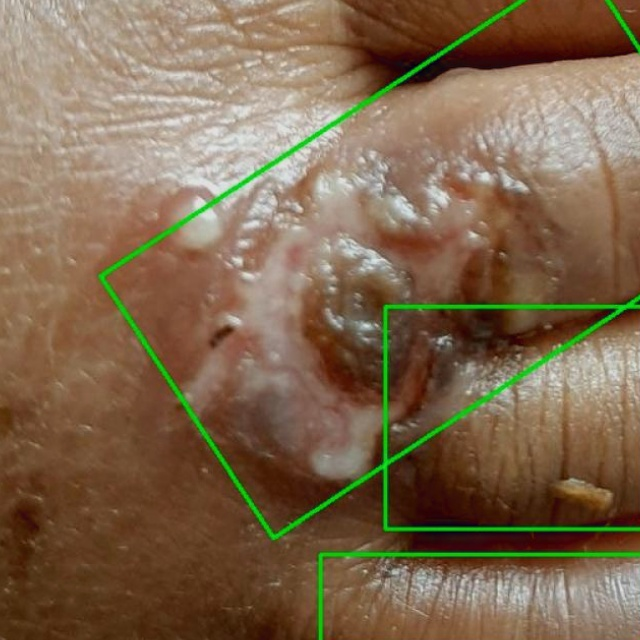Eczema: (101, 0, 639, 546), (385, 306, 639, 529), (320, 554, 639, 639)
